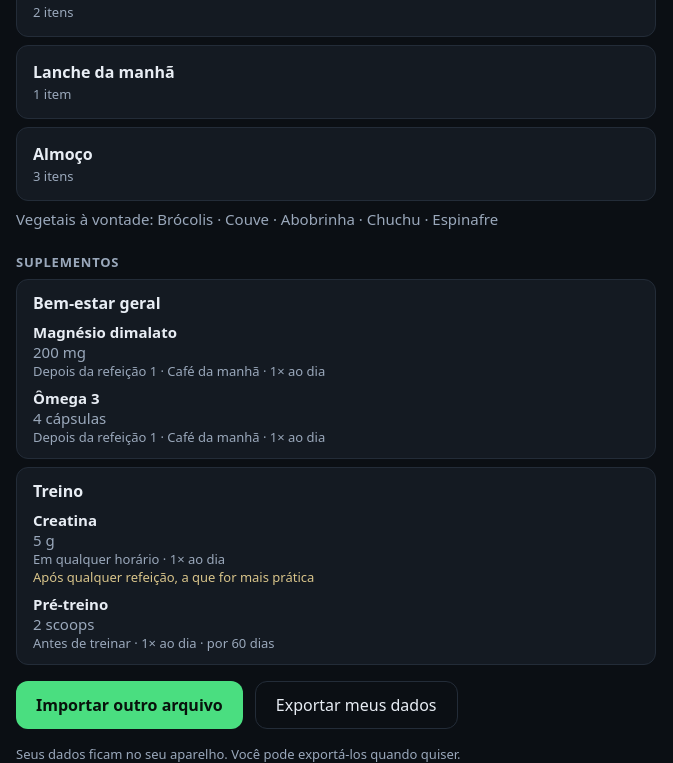
Test: TelaPlano › exportar › entrega o vault ao aluno e confirma que o arquivo é dele
(page scrolled)
Click the button "Exportar meus dados" at (356,705), box x1=255 y1=681 x2=458 y2=729
(page scrolled)
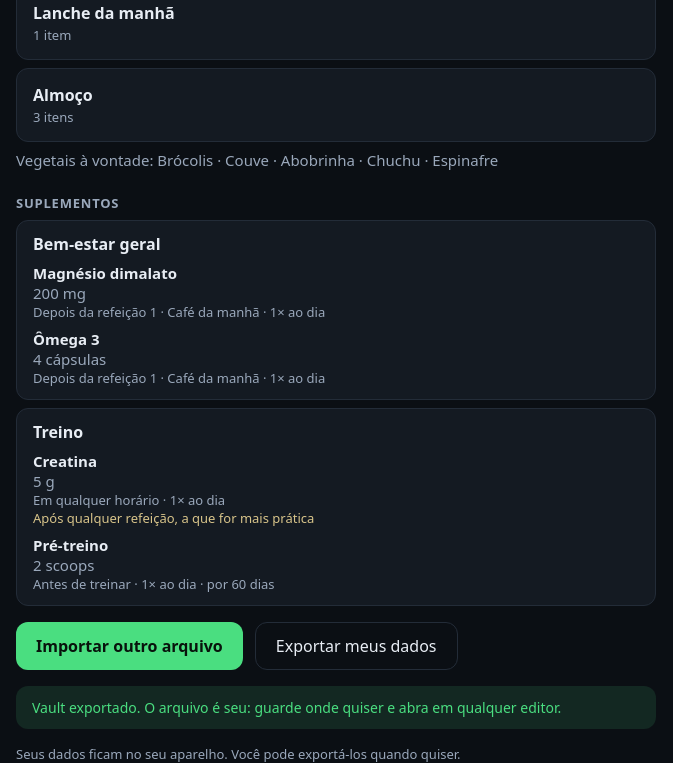
Result: the message shows "Vault exportado" at x1=32 y1=698 x2=561 y2=717
